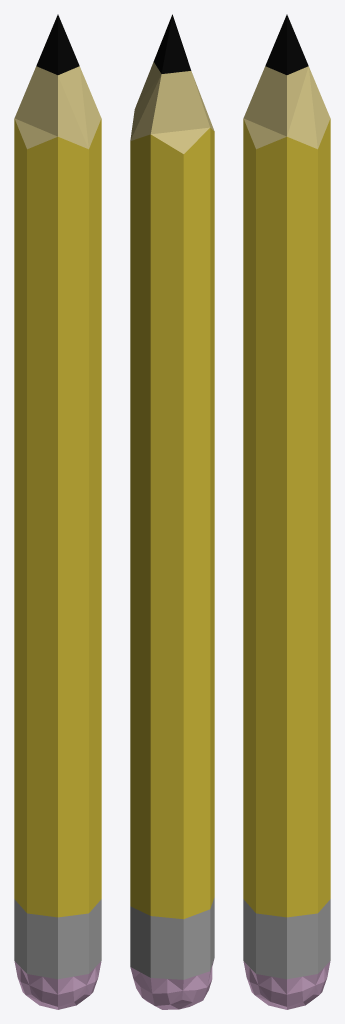
File: pencil.fbx
3 views of the same model, side by side, from view 1: azimuth 90°, elevation 25°; view 2: azimuth 150°, elevation 25°; view 3: azimuth 270°, elevation 25° (orthographic).
Visible parts, largest first — view 1: pCube1; view 2: pCube1; view 3: pCube1.
Part boxes in pixels (x1,y1,x2,y2): pCube1: (14, 14, 101, 1009); pCube1: (130, 14, 214, 1009); pCube1: (243, 14, 330, 1009).
Size of the model in its own units: 0.7778 by 9.77 by 0.7778.
